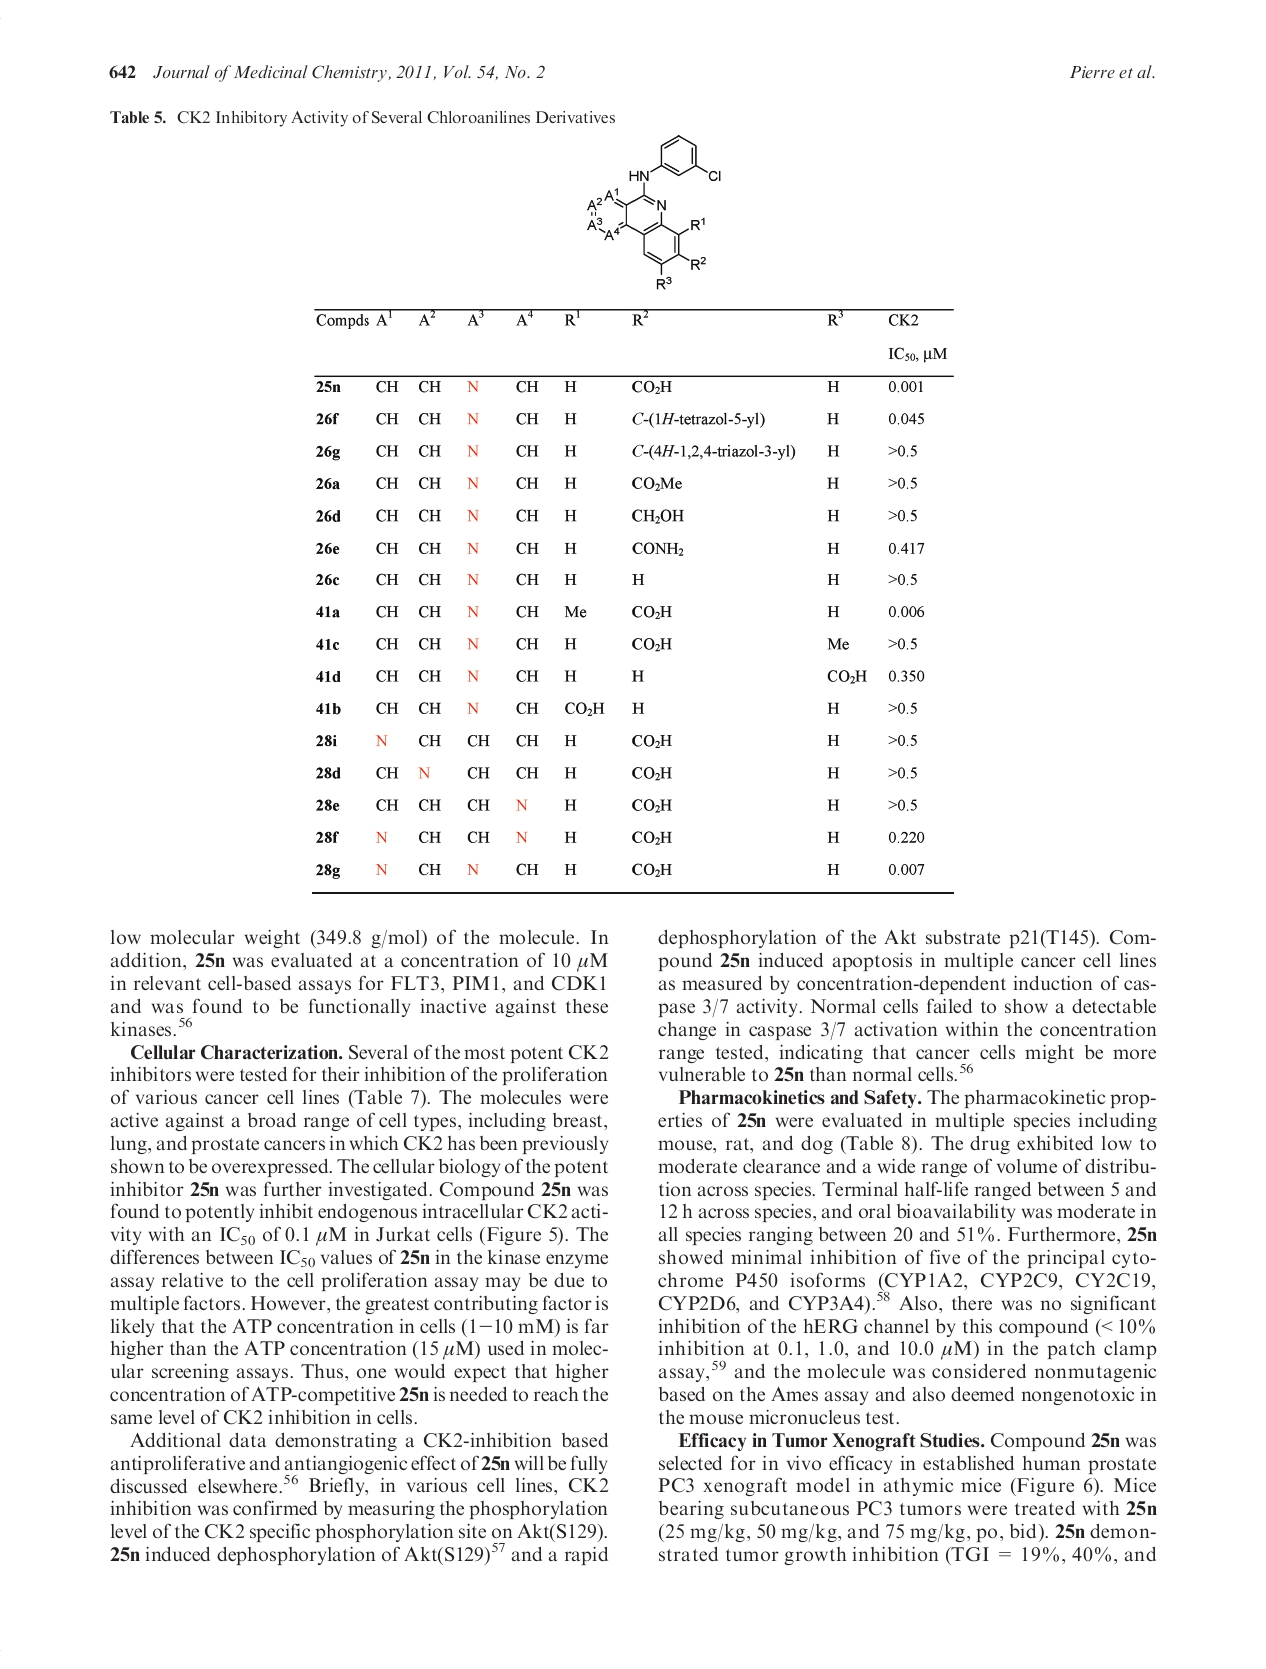exist_molecular: (585, 132, 723, 293)
